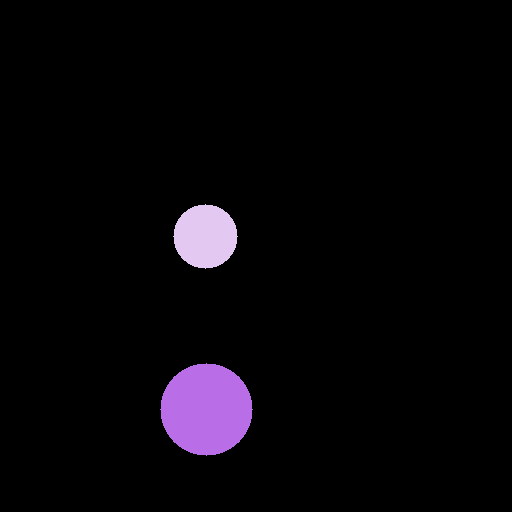circle: (160, 363, 252, 455), (173, 204, 237, 268)
